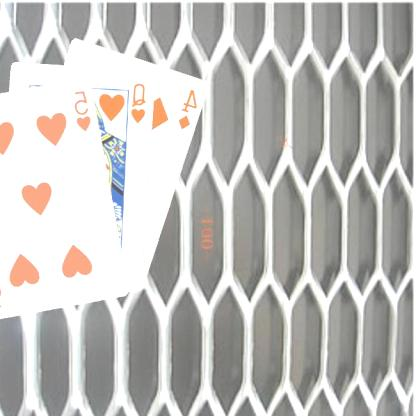4D: (177, 86, 201, 131)
5H: (73, 87, 95, 133), (0, 264, 5, 310)
QH: (130, 80, 149, 124)
